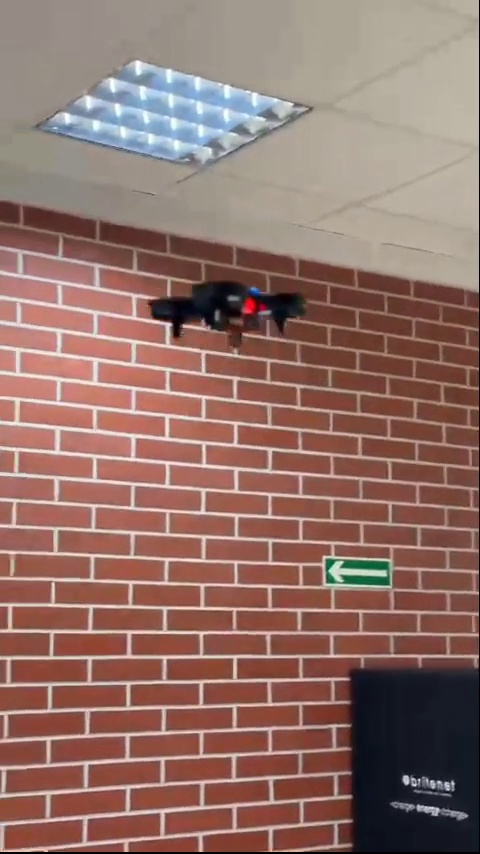drone: (145, 278, 308, 351)
